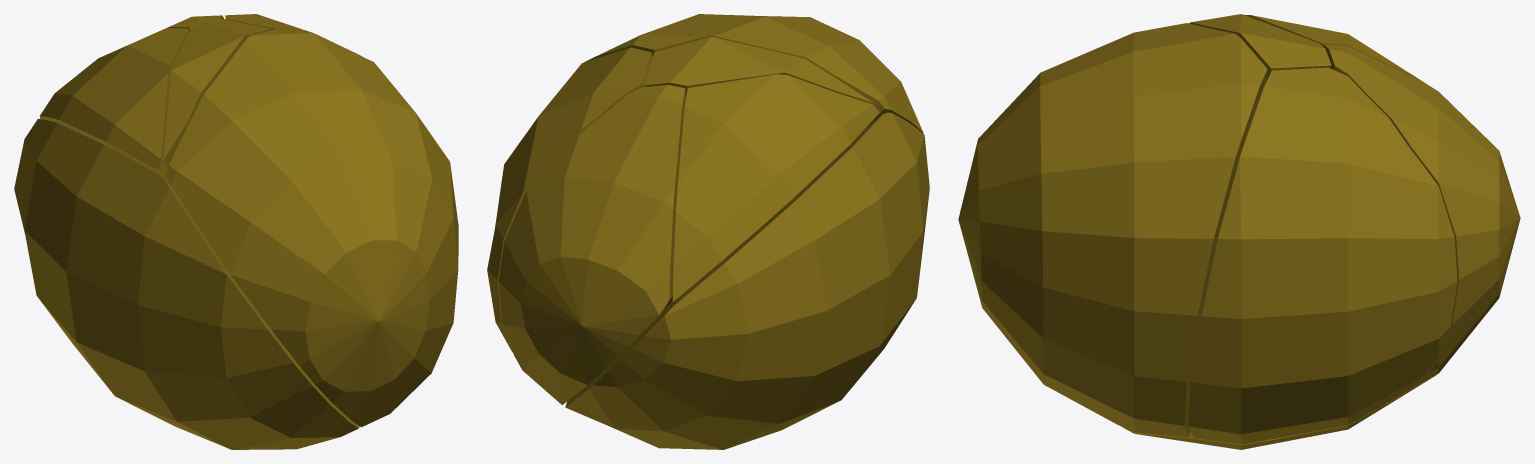
File: coconut_broken.fbx
3 views of the same model, side by side, from view 1: azimuth 30°, elevation 25°; view 2: azimuth 150°, elevation 25°; view 3: azimuth 270°, elevation 25° (orthographic). The views are drawn at different scales.
Visible parts, largest first — view 1: Husk.002_cell.001, Husk.002_cell.004, Husk.002_cell.005, Husk.002_cell.003, Husk.002_cell.002; view 2: Husk.002_cell.004, Husk.002_cell, Husk.002_cell.005, Husk.002_cell.002, Husk.002_cell.001, Husk.002_cell.003; view 3: Husk.002_cell.001, Husk.002_cell.002, Husk.002_cell, Husk.002_cell.003, Husk.002_cell.005, Husk.002_cell.004.
Boxes of the visible parts, <box> form: Husk.002_cell.001: <box>166,29,458,427</box>; Husk.002_cell.004: <box>14,119,359,449</box>; Husk.002_cell.005: <box>40,28,189,183</box>; Husk.002_cell.003: <box>163,18,271,167</box>; Husk.002_cell.002: <box>225,14,374,63</box>; Husk.002_cell.004: <box>565,112,929,449</box>; Husk.002_cell: <box>498,85,686,404</box>; Husk.002_cell.005: <box>672,74,879,301</box>; Husk.002_cell.002: <box>487,47,652,352</box>; Husk.002_cell.001: <box>584,14,923,132</box>; Husk.002_cell.003: <box>644,37,874,104</box>; Husk.002_cell.001: <box>958,23,1267,437</box>; Husk.002_cell.002: <box>1188,67,1457,444</box>; Husk.002_cell: <box>1323,44,1520,401</box>; Husk.002_cell.003: <box>1189,14,1331,83</box>; Husk.002_cell.005: <box>1243,14,1420,80</box>; Husk.002_cell.004: <box>1123,375,1436,449</box>.
Size of the model in its own units: 22.57 by 23.63 by 30.19.
